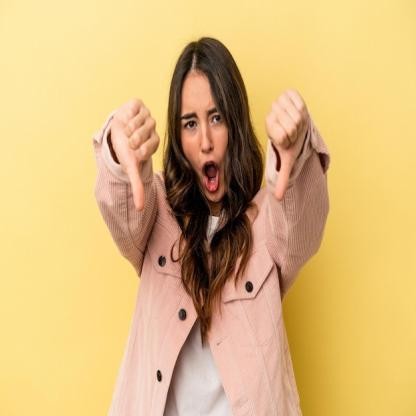thumb_down: (109, 92, 162, 212), (263, 85, 310, 204)
